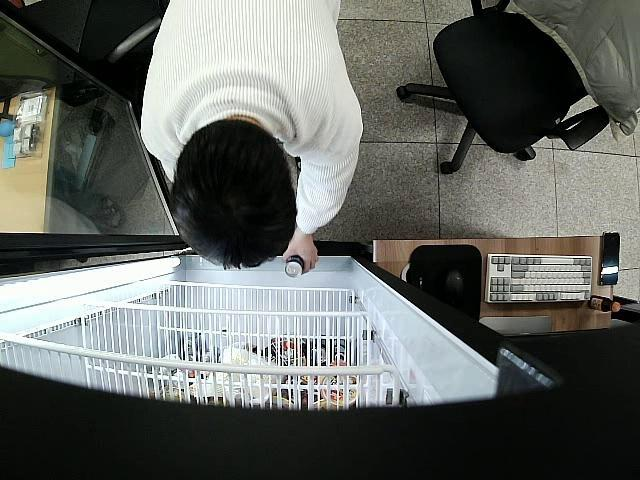16_hot6: (284, 255, 305, 278)
